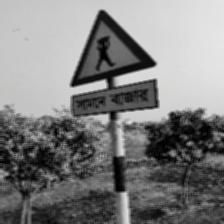Market-in-front: (69, 9, 160, 118)
